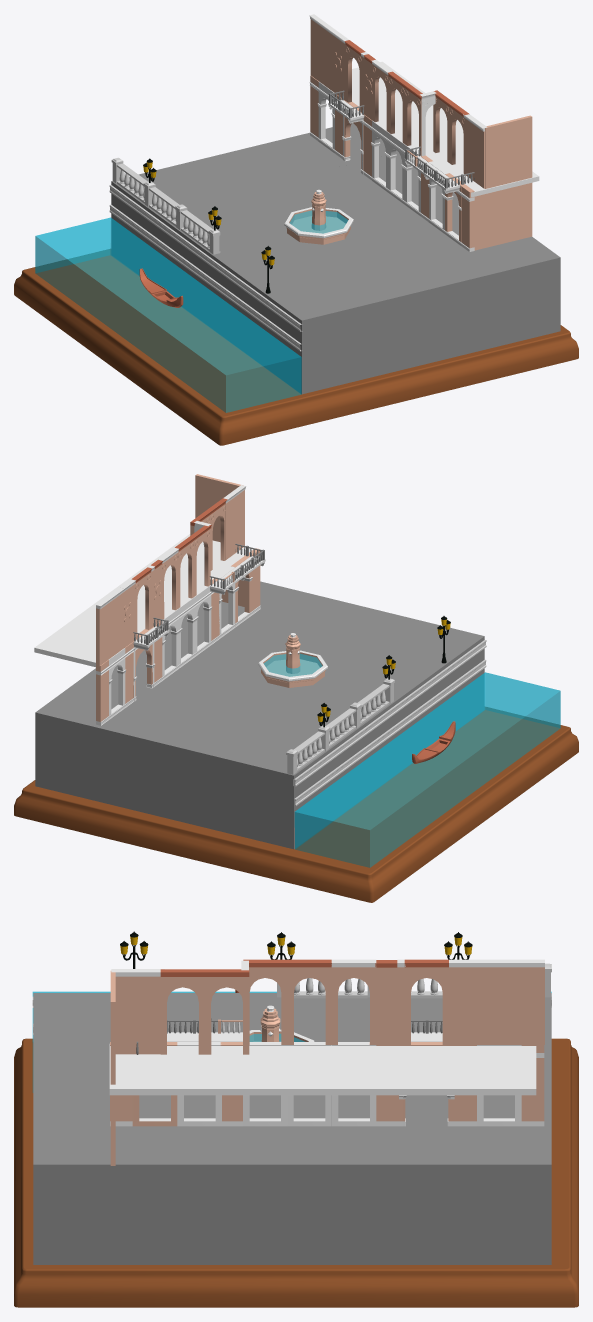
File: Level2.FBX
3 renders of one model, top to bottom at view 1: azimuth 30°, elevation 25°; view 2: azimuth 150°, elevation 25°; view 3: azimuth 270°, elevation 25°, orthographic. The views are drawn at different scales.
Visible parts, largest first — view 1: Box034, Container001, Box044, Box014, Cylinder001, Box012, Box046, Box027, Box020, Box002, Tube008, Box022 (+13 smaller); view 2: Box034, Container001, Box014, Cylinder001, Box012, Box044, Box046, Box019, Box020, Box022, Box023, Box002 (+11 smaller); view 3: Box034, Container001, Box014, Box012, Box046, Box008, Tube009, Box010, Tube012, Tube011, Tube007, Tube008 (+17 smaller).
Part boxes in pixels (<box>): Box034: <box>111,123,560,394</box>; Container001: <box>14,157,578,445</box>; Box044: <box>474,115,532,250</box>; Box014: <box>352,61,539,197</box>; Cylinder001: <box>284,189,353,244</box>; Box012: <box>309,14,337,92</box>; Box046: <box>463,114,487,188</box>; Box027: <box>460,185,474,251</box>; Box020: <box>387,132,404,203</box>; Box002: <box>371,120,388,192</box>; Tube008: <box>371,59,392,131</box>; Box022: <box>317,81,334,153</box>; Box034: <box>35,581,484,849</box>; Container001: <box>14,640,578,902</box>; Box014: <box>34,534,253,667</box>; Cylinder001: <box>258,633,327,687</box>; Box012: <box>96,587,124,666</box>; Box044: <box>195,474,244,606</box>; Box046: <box>223,485,245,560</box>; Box019: <box>195,585,212,656</box>; Box020: <box>178,597,195,668</box>; Box022: <box>108,648,126,719</box>; Box023: <box>96,660,109,725</box>; Box002: <box>162,609,179,680</box>; Box034: <box>33,993,551,1264</box>; Container001: <box>14,963,578,1307</box>; Box014: <box>109,1044,536,1095</box>; Box012: <box>479,959,544,1044</box>; Box046: <box>111,969,164,1054</box>; Box008: <box>375,960,397,1044</box>; Tube009: <box>287,959,331,1044</box>; Box010: <box>458,959,479,1044</box>; Tube012: <box>160,969,205,1054</box>; Tube011: <box>205,969,249,1054</box>; Tube007: <box>404,959,448,1044</box>; Tube008: <box>331,959,376,1044</box>.
Size of the model in its own units: 336 by 195 by 336.
